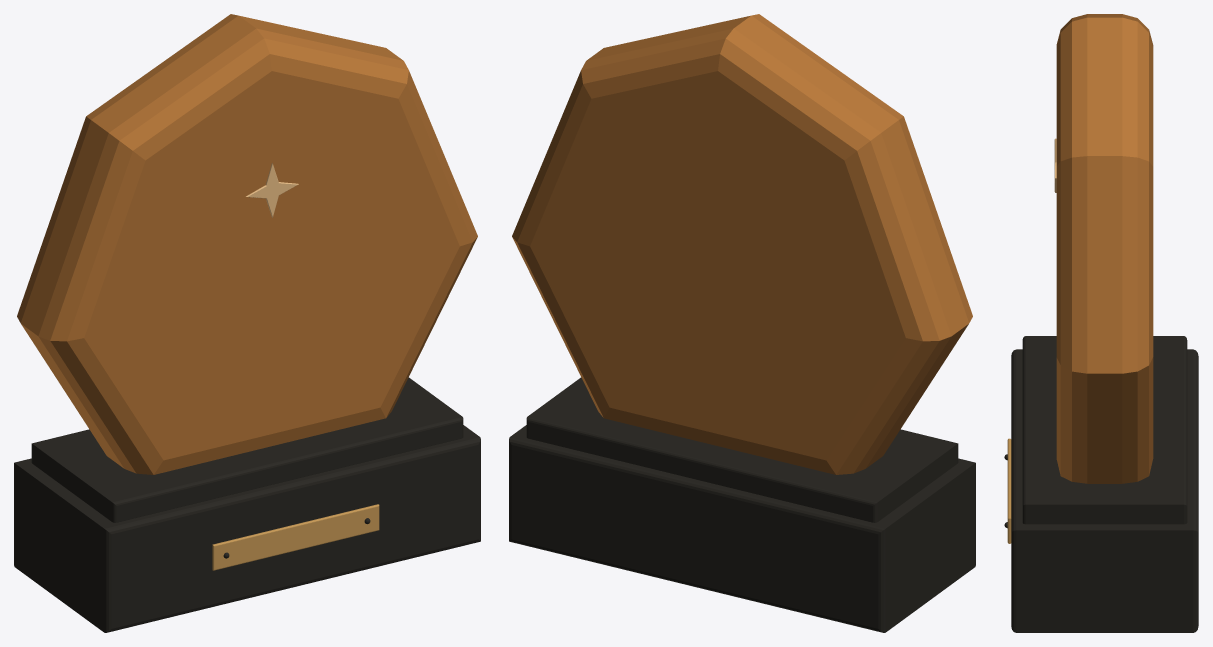
File: facet-tall.glb
3 renders of one model, left to right at view 1: azimuth 30°, elevation 25°; view 2: azimuth 150°, elevation 25°; view 3: azimuth 270°, elevation 25°, orthographic.
Parts seen in each view (by area): view 1: object 4, object 1, object 2, EngravingPlate, object 5; view 2: object 4, object 1, object 2; view 3: object 4, object 1, object 2, EngravingPlate.
Part boxes in pixels (<box>): object 4: <box>17,14,477,474</box>; object 1: <box>14,425,480,632</box>; object 2: <box>31,377,463,522</box>; EngravingPlate: <box>212,504,379,570</box>; object 5: <box>246,163,298,217</box>; object 4: <box>512,14,972,474</box>; object 1: <box>509,425,975,632</box>; object 2: <box>526,377,958,522</box>; object 4: <box>1056,14,1153,483</box>; object 1: <box>1011,349,1198,632</box>; object 2: <box>1022,336,1187,524</box>; EngravingPlate: <box>1007,438,1011,543</box>.
Bounding box in the file's own units: 2.41 × 2.81 × 0.943.
